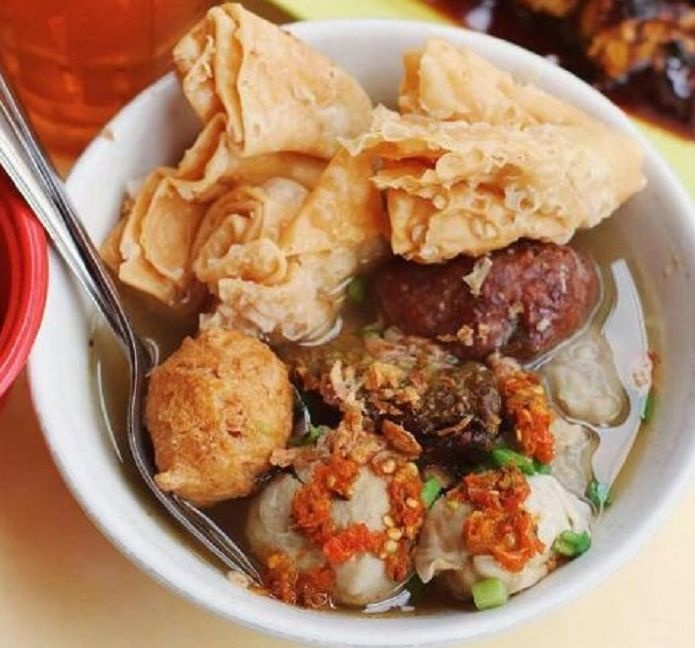bakso_malang: (118, 3, 645, 617)
